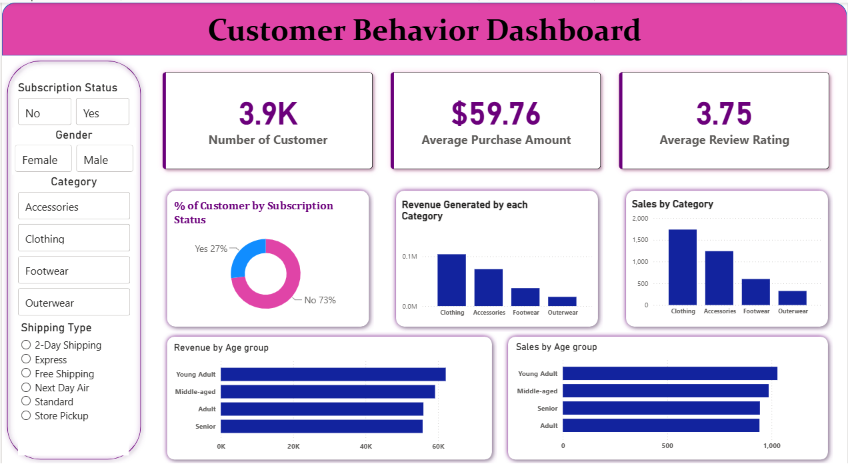

The dashboard page shown, as its layout file describes it:
{"tool":"powerbi","page":{"name":"Page 1","canvas":[1500,820],"ordinal":0},"visuals":[{"type":"cardVisual","fields":{"Data":["alwi house_upload.Number of Customer","alwi house_upload.Average Purchase Amount","alwi house_upload.Average Review Rating"]},"box":[255.5,94,1243.9,230.7],"z":0},{"type":"shape","box":[0,0,1499.4,94],"z":1000},{"type":"textbox","box":[0,10.6,1499.4,83.4],"z":2000},{"type":"shape","box":[283.9,324.7,376.2,259.1],"z":3000},{"type":"donutChart","title":"% of Customer by Subscription Status","fields":{"Category":["alwi house_upload.subscription_status"],"Y":["CountNonNull(alwi house_upload.customer_id)"]},"box":[299.9,347.8,335.4,218.3],"z":4000},{"type":"shape","box":[690.3,324.7,376.2,259.1],"z":5000},{"type":"shape","box":[1098.4,324.7,376.2,259.1],"z":6000},{"type":"clusteredColumnChart","title":"Revenue Generated by each Category","fields":{"Y":["Sum(alwi house_upload.purchase_amount)"],"Category":["alwi house_upload.category"]},"box":[704.5,347.8,347.8,218.3],"z":7000},{"type":"clusteredColumnChart","title":"Sales by Category","fields":{"Y":["CountNonNull(alwi house_upload.customer_id)"],"Category":["alwi house_upload.category"]},"box":[1112.6,346,347.8,218.3],"z":8000},{"type":"shape","box":[0,94,255.5,725.8],"z":9000},{"type":"advancedSlicerVisual","title":"Subscription Status","fields":{"Values":["alwi house_upload.subscription_status"]},"box":[23.1,138.4,209.4,83.4],"z":10000},{"type":"advancedSlicerVisual","title":"Gender","fields":{"Values":["alwi house_upload.gender"]},"box":[17.7,221.8,220,83.4],"z":11000},{"type":"advancedSlicerVisual","title":"Category","fields":{"Values":["alwi house_upload.category"]},"box":[23.1,305.2,209.4,259.1],"z":12000},{"type":"listSlicer","title":"Shipping Type","fields":{"Values":["alwi house_upload.shipping_type"]},"box":[28.4,564.3,197,239.6],"z":13000},{"type":"clusteredBarChart","title":"Revenue  by Age group","fields":{"Y":["Sum(alwi house_upload.purchase_amount)"],"Category":["alwi house_upload.age_group"]},"box":[303.4,605.1,557.2,195.2],"z":14000},{"type":"shape","box":[889,583.8,585.6,236],"z":15000},{"type":"shape","box":[283.9,583.8,594.4,236],"z":16000},{"type":"clusteredBarChart","title":"Sales by Age group","fields":{"Category":["alwi house_upload.age_group"],"Y":["CountNonNull(alwi house_upload.customer_id)"]},"box":[906.7,599.8,553.6,204.1],"z":17000},{"type":"clusteredBarChart","title":"Revenue by Age group","fields":{"Category":["alwi house_upload.age_group"],"Y":["Sum(alwi house_upload.purchase_amount)"]},"box":[299.9,601.5,553.6,204.1],"z":17001}]}

Visuals, with their boxes in screenshot pixels (x1, y1, x2, y2), scaled from the page's 1500x820 canvas onto the 848x464 screenshot:
cardVisual - alwi house_upload.Number of Customer x alwi house_upload.Average Purchase Amount: detection(144, 53, 847, 184)
shape: detection(0, 0, 847, 53)
textbox: detection(0, 6, 847, 53)
shape: detection(160, 184, 373, 330)
"% of Customer by Subscription Status" donutChart: detection(170, 197, 359, 320)
shape: detection(390, 184, 603, 330)
shape: detection(621, 184, 834, 330)
"Revenue Generated by each Category" clusteredColumnChart: detection(398, 197, 595, 320)
"Sales by Category" clusteredColumnChart: detection(629, 196, 826, 319)
shape: detection(0, 53, 144, 463)
"Subscription Status" advancedSlicerVisual: detection(13, 78, 131, 126)
"Gender" advancedSlicerVisual: detection(10, 126, 134, 173)
"Category" advancedSlicerVisual: detection(13, 173, 131, 319)
"Shipping Type" listSlicer: detection(16, 319, 127, 455)
"Revenue  by Age group" clusteredBarChart: detection(172, 342, 487, 453)
shape: detection(503, 330, 834, 463)
shape: detection(160, 330, 497, 463)
"Sales by Age group" clusteredBarChart: detection(513, 339, 826, 455)
"Revenue by Age group" clusteredBarChart: detection(170, 340, 483, 456)
